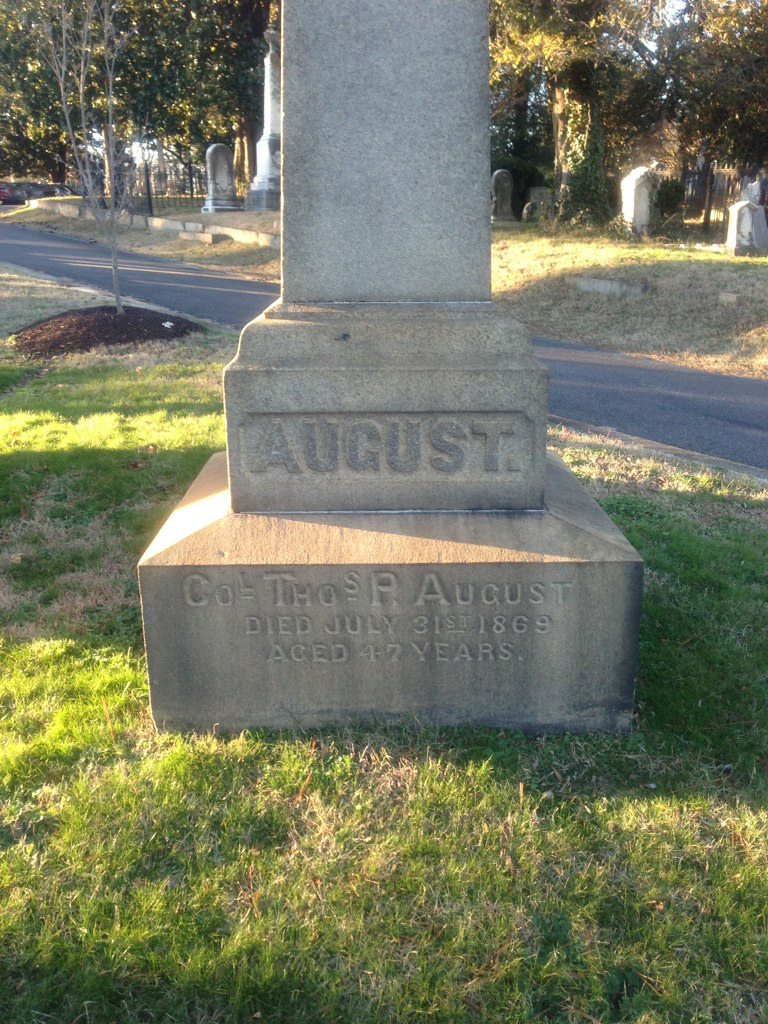obelisk: (221, 12, 548, 522)
